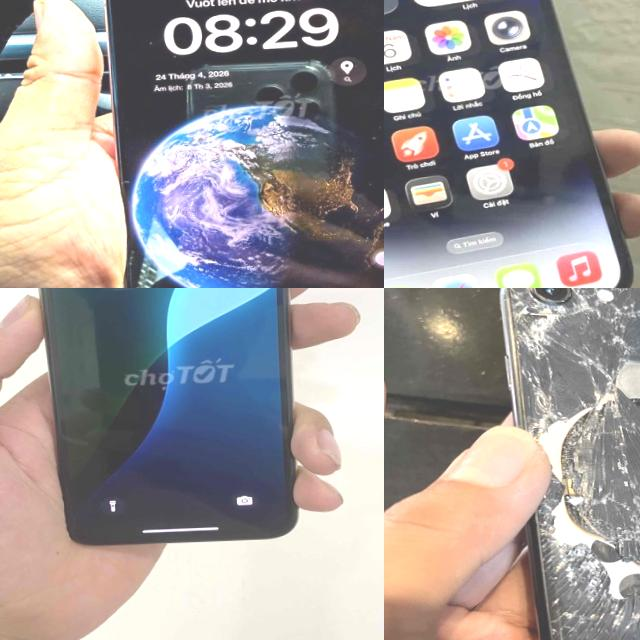gen_14: (384, 0, 636, 288)
gen_16: (107, 0, 384, 288)
gen_7_8: (491, 288, 640, 640)
gen_x_xs: (40, 288, 296, 545)
physical_damage: (482, 386, 634, 448), (495, 321, 639, 376), (513, 549, 640, 607), (519, 495, 640, 554), (524, 440, 640, 499), (507, 288, 621, 328), (496, 361, 640, 392), (517, 608, 640, 640)
